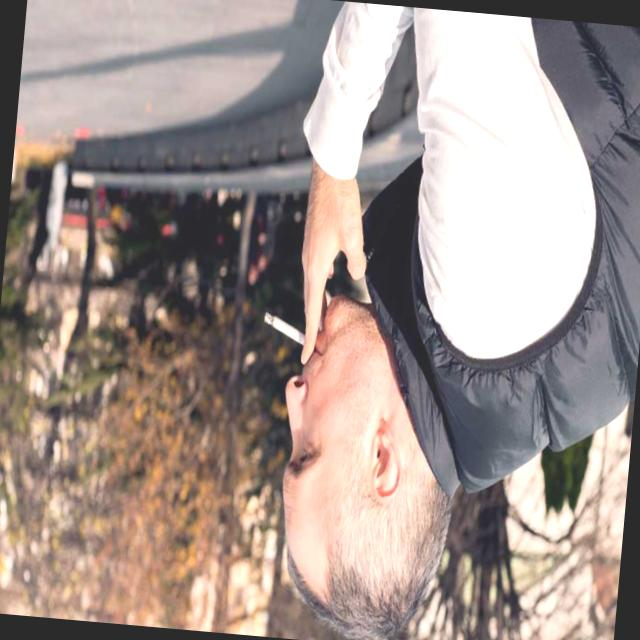cigarette: (241, 304, 324, 366)
